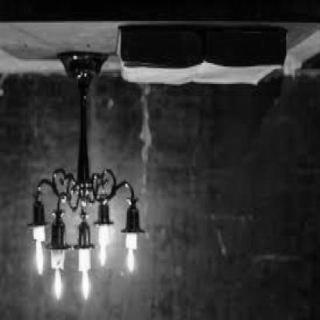Fire: (75, 269, 89, 303), (34, 240, 42, 286), (96, 246, 110, 272)
